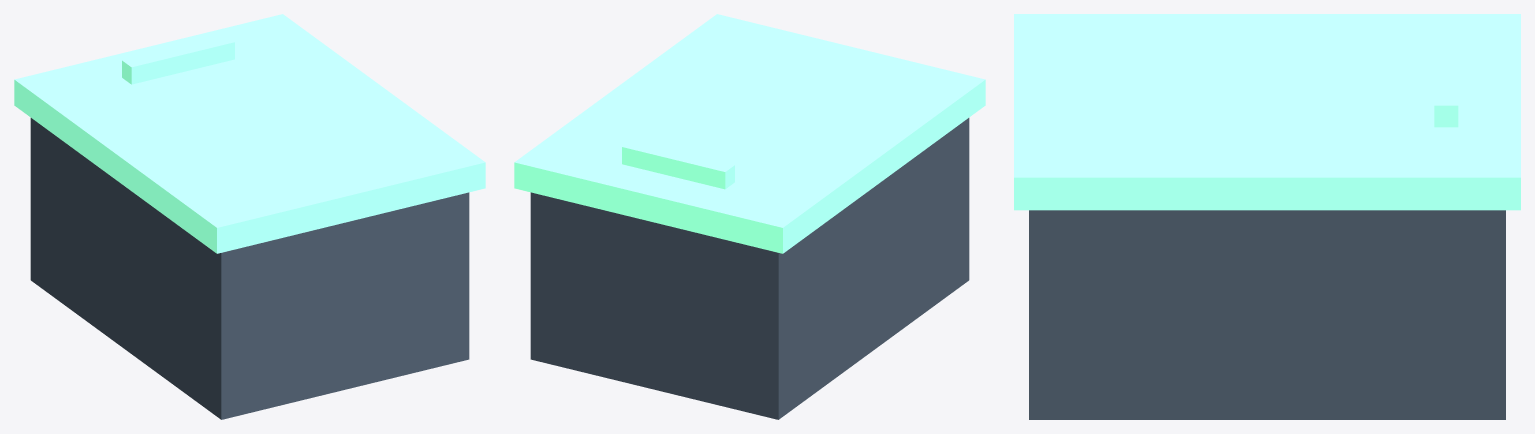
Rendered from bldg_depot.glb.
3 renders of one model, left to right at view 1: azimuth 30°, elevation 25°; view 2: azimuth 150°, elevation 25°; view 3: azimuth 270°, elevation 25°, orthographic. The views are drawn at different scales.
Parts seen in each view (by area): view 1: Body, Roof, Sign; view 2: Body, Roof, Sign; view 3: Body, Roof, Sign.
Part boxes in pixels (x1,y1,x2,y2): Body: (30, 118, 469, 419); Roof: (14, 14, 485, 253); Sign: (122, 35, 234, 84); Body: (530, 118, 969, 419); Roof: (514, 14, 985, 253); Sign: (622, 140, 734, 189); Body: (1029, 210, 1505, 419); Roof: (1014, 14, 1520, 210); Sign: (1434, 42, 1458, 127).
Bounding box in the file's own units: 1.3 × 1 × 1.7.
